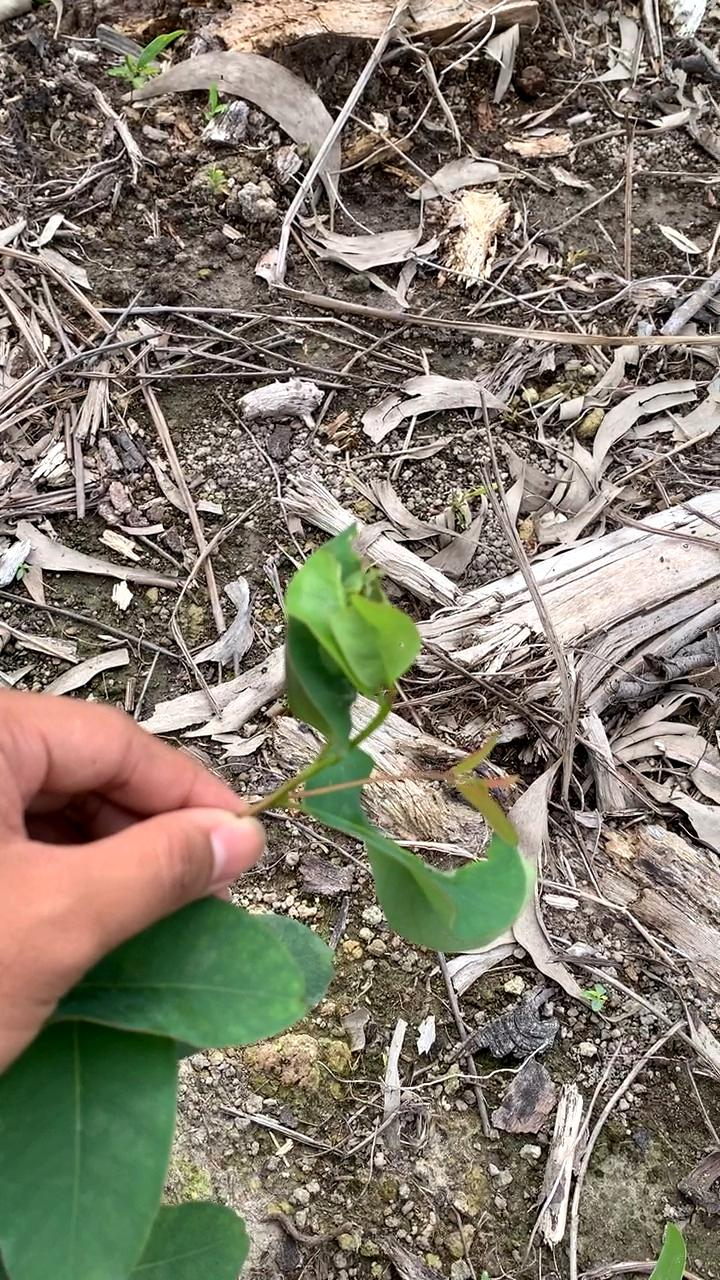Leaf Roller - Leaf: (270, 523, 431, 755)
